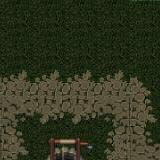Hide: (19, 116, 109, 160)
